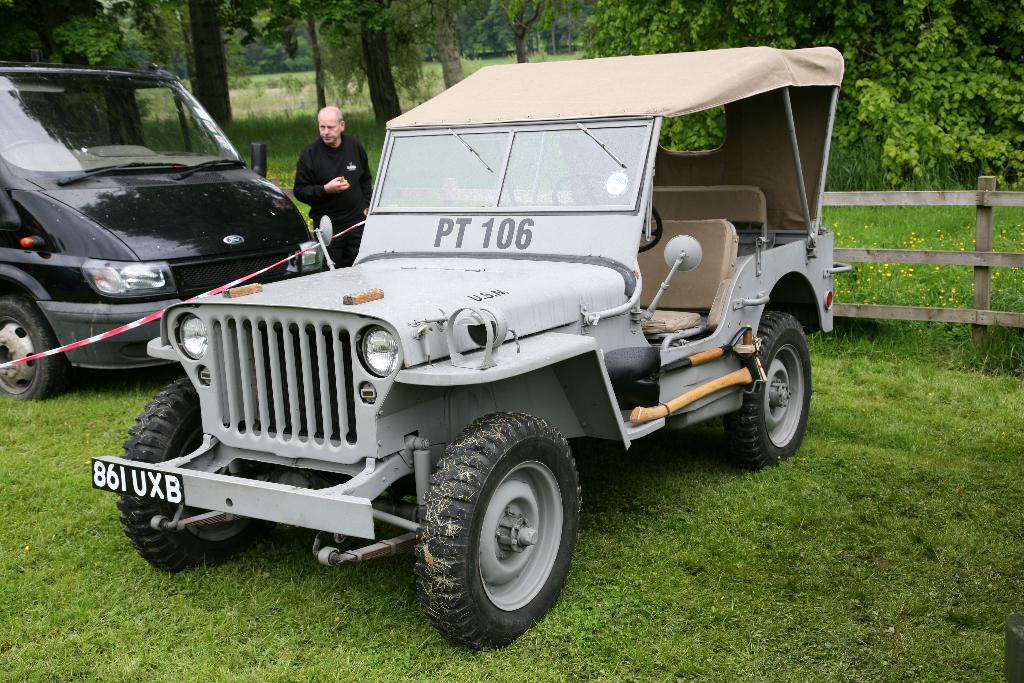Car: (0, 65, 323, 407)
